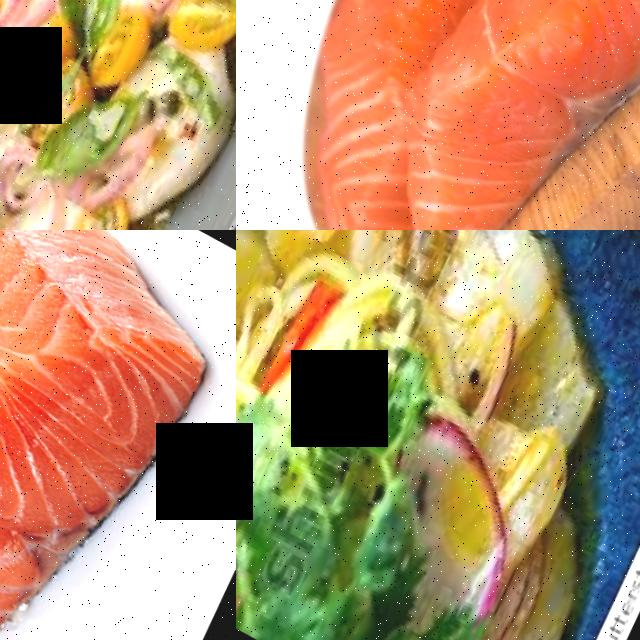salmon: (0, 230, 236, 640), (255, 0, 596, 215), (359, 0, 640, 230)
